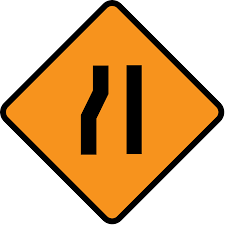Narrow_road: (1, 1, 224, 225)
